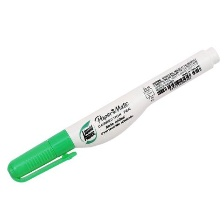correction_fluid: (5, 45, 220, 184)
